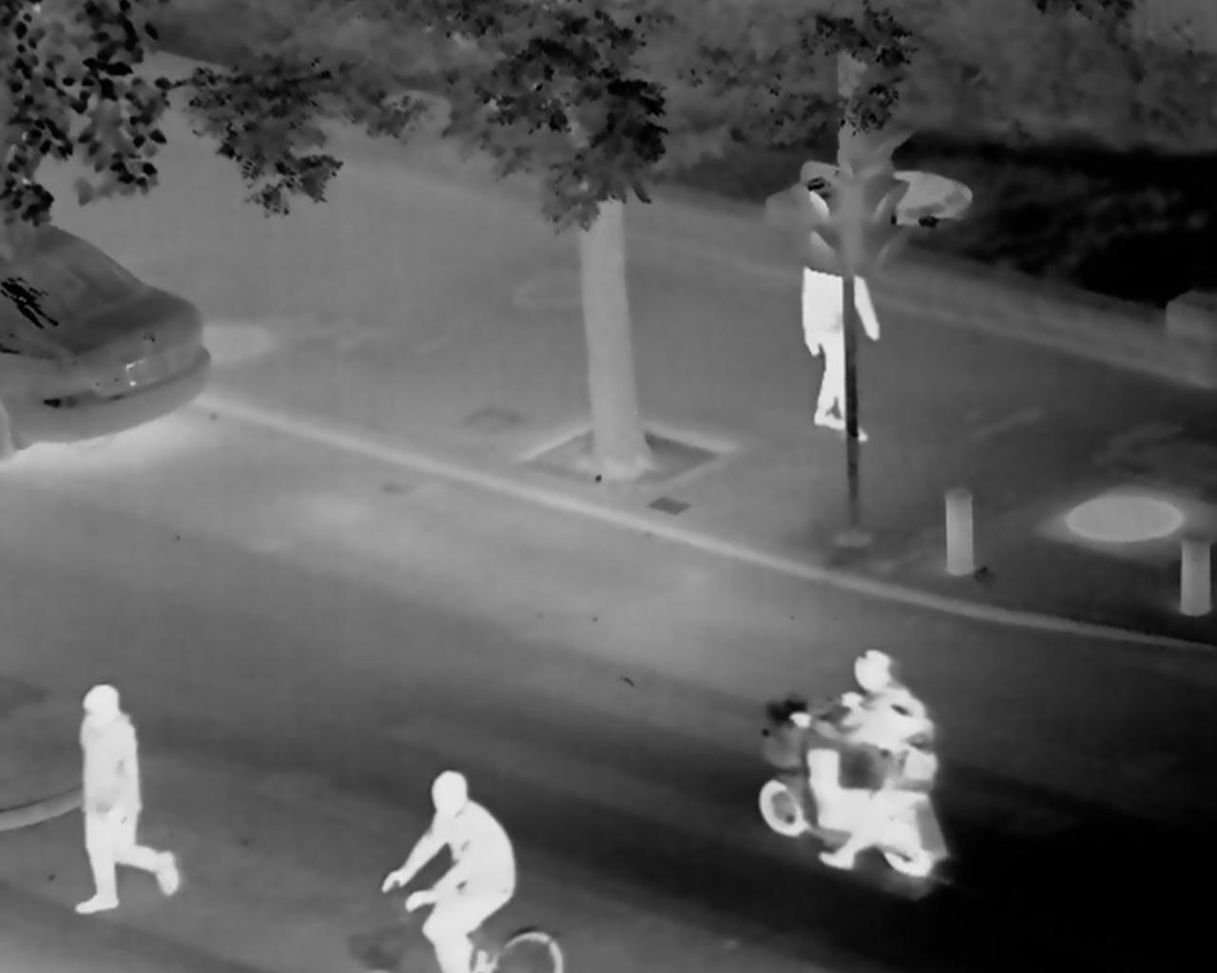person: (805, 637, 922, 898), (62, 673, 170, 944), (781, 191, 894, 439), (388, 765, 518, 973)
